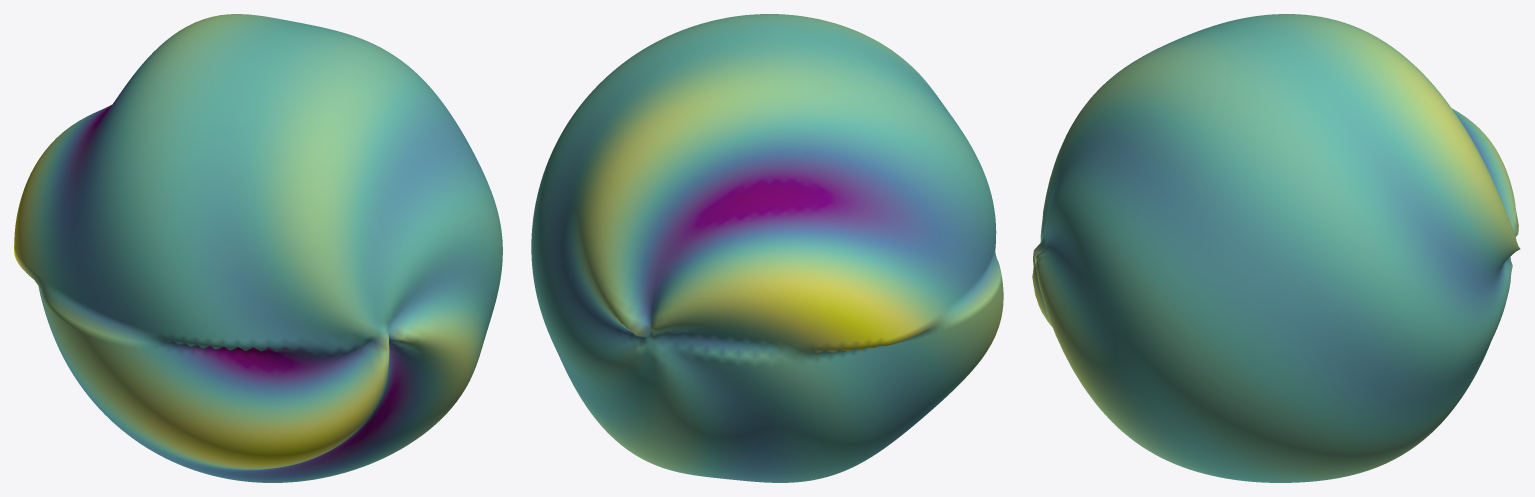
The model's file is sphere_frame_0016.glb.
The picture shows the model from 3 angles, left to right: view 1: azimuth 30°, elevation 25°; view 2: azimuth 150°, elevation 25°; view 3: azimuth 270°, elevation 25°; orthographic projection.
Visible parts, largest first — view 1: world; view 2: world; view 3: world.
Boxes of the visible parts, bbox=[...] form: world: bbox=[14, 14, 502, 482]; world: bbox=[531, 14, 1003, 482]; world: bbox=[1032, 14, 1520, 482].
Size of the model in its own units: 2.18 by 2.15 by 2.25.
